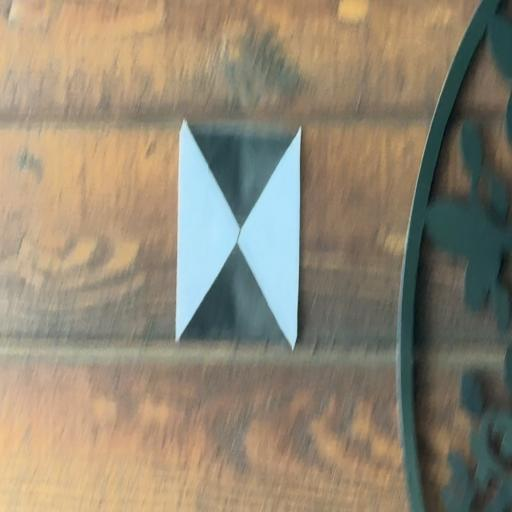target: (180, 124, 298, 350)
